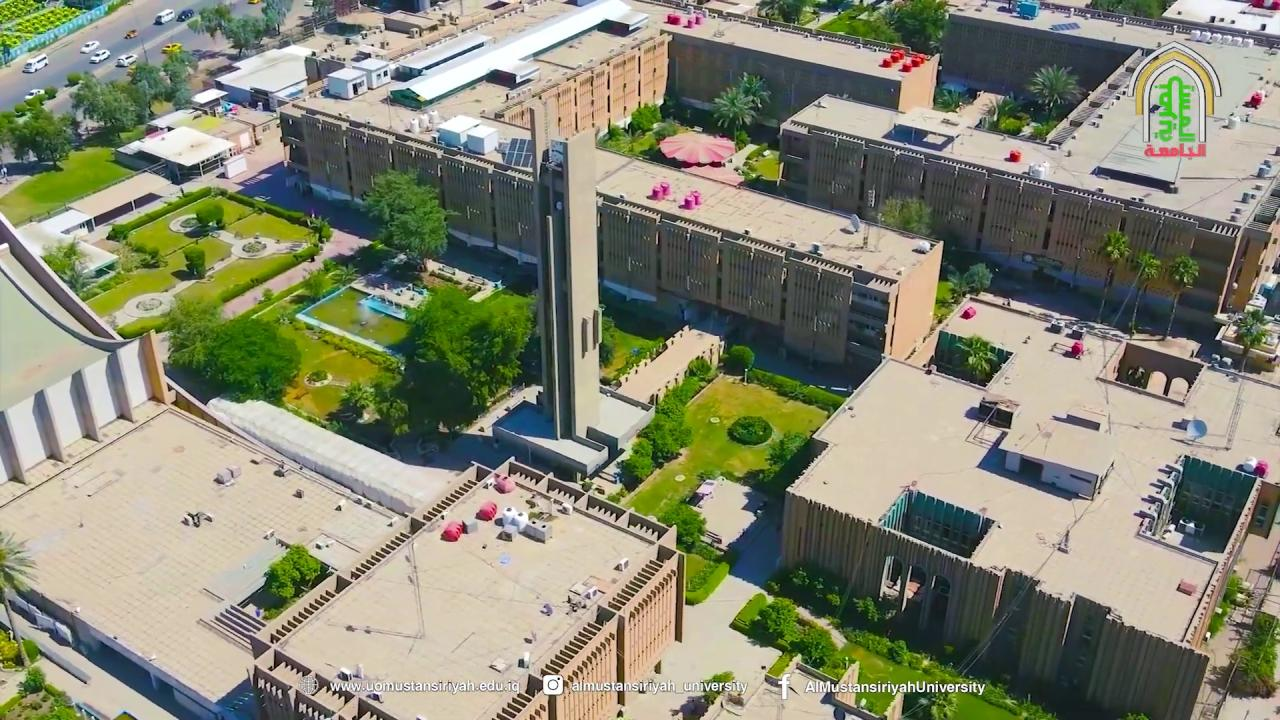car: (22, 53, 49, 73), (153, 8, 175, 24), (89, 48, 110, 63), (24, 89, 47, 102), (116, 53, 137, 67), (80, 40, 100, 54), (162, 42, 182, 54), (220, 101, 238, 114), (177, 9, 194, 21), (125, 28, 137, 38), (303, 0, 314, 6), (247, 0, 260, 4)
fountain: (359, 292, 407, 321)
person: (1071, 340, 1083, 360)
tree: (403, 282, 534, 413), (157, 294, 301, 404), (1085, 226, 1200, 340), (363, 167, 459, 270), (186, 1, 292, 57), (156, 295, 224, 371), (2, 104, 76, 170), (338, 371, 410, 436), (1227, 610, 1279, 697), (363, 167, 418, 247), (389, 198, 450, 270), (69, 71, 138, 130), (880, 0, 949, 54), (264, 542, 321, 603), (1094, 229, 1130, 323), (1162, 252, 1200, 340), (1027, 63, 1079, 123), (1207, 569, 1250, 639), (710, 85, 757, 149), (40, 234, 89, 295), (0, 528, 39, 603), (1127, 250, 1161, 334), (656, 500, 707, 553), (1231, 304, 1269, 373), (128, 61, 170, 120), (877, 194, 933, 237), (756, 596, 800, 649), (638, 414, 680, 467), (788, 624, 834, 669), (955, 333, 997, 382), (981, 94, 1030, 135), (223, 14, 268, 57), (764, 430, 809, 472), (946, 262, 992, 302), (160, 58, 192, 110), (754, 0, 818, 25), (187, 3, 231, 39), (338, 380, 375, 419), (622, 437, 654, 482), (736, 70, 770, 112), (726, 414, 771, 445), (723, 343, 755, 384), (628, 99, 662, 135), (302, 211, 332, 249), (701, 671, 734, 705), (325, 259, 359, 292), (261, 0, 291, 34), (1221, 570, 1249, 606), (927, 688, 958, 718), (114, 241, 141, 274), (301, 267, 327, 301), (194, 198, 223, 228), (853, 595, 880, 623), (687, 354, 714, 382), (183, 243, 205, 277)
